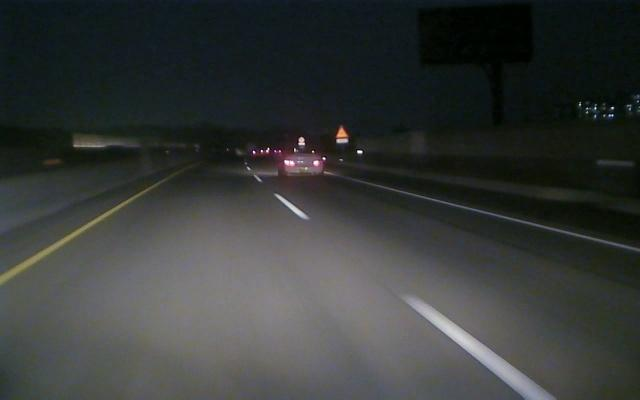lane: (275, 194, 556, 397), (365, 183, 640, 253), (2, 198, 133, 284)
